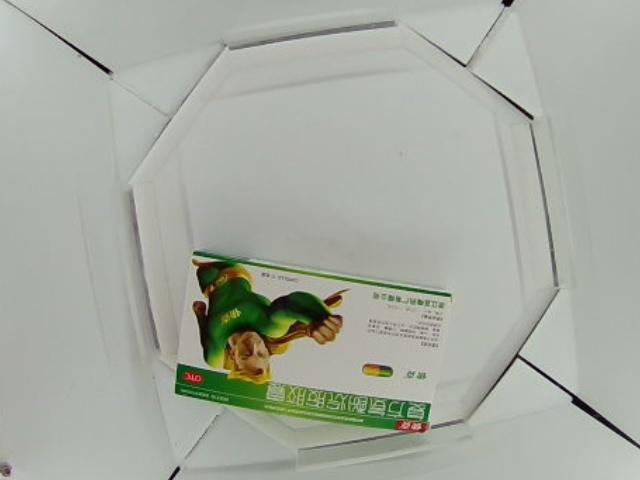Medicine: (171, 251, 453, 436)
